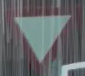Give way: (6, 5, 78, 65)
